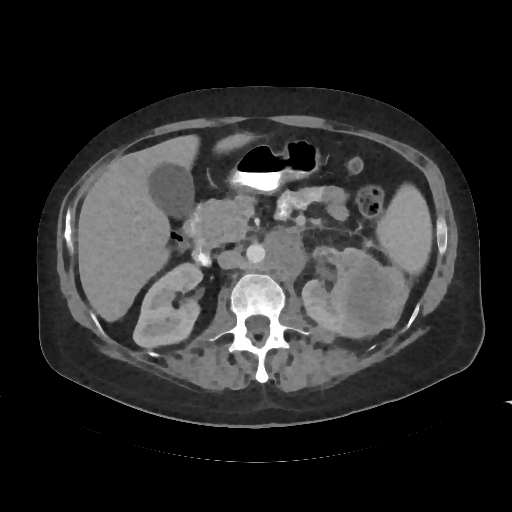Lesion: (330, 249, 407, 341)
